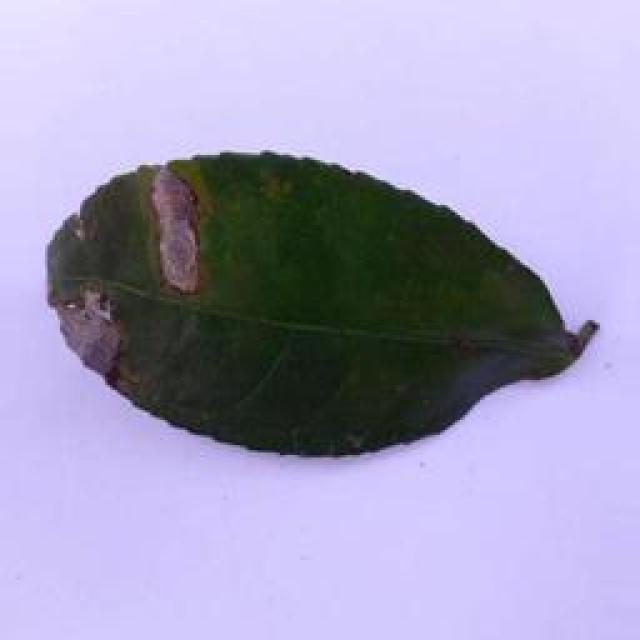Gray Blight: (56, 146, 592, 458)
